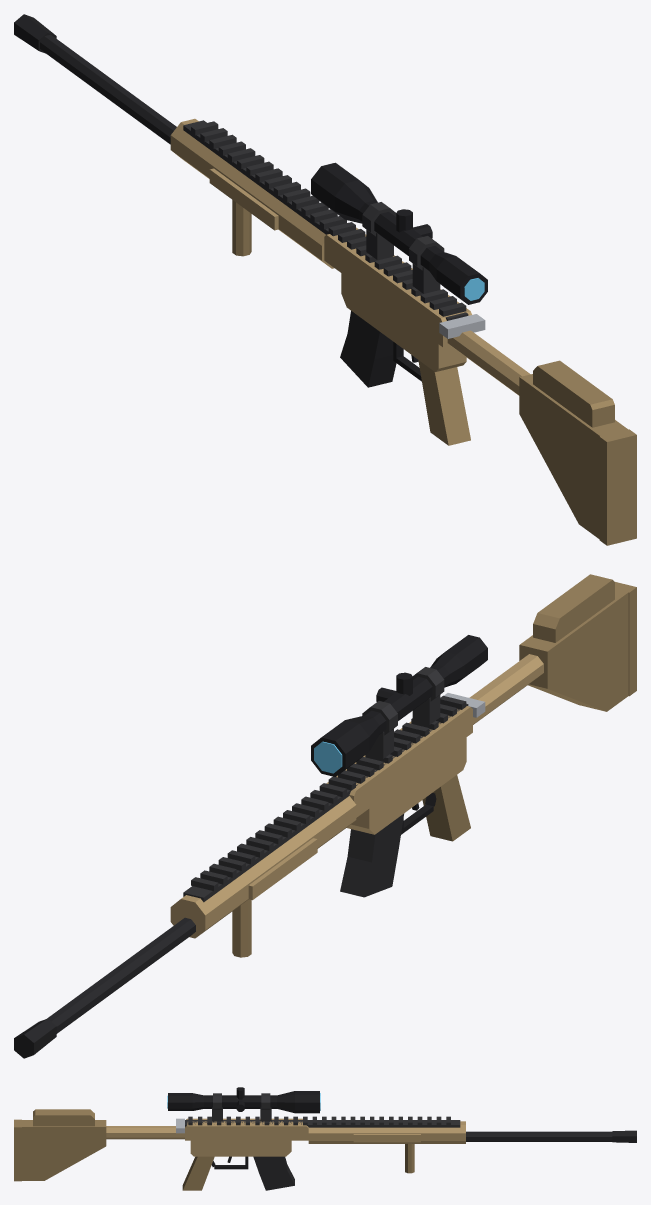
File: Marksman.obj
3 views of the same model, one above another, from view 1: azimuth 30°, elevation 25°; view 2: azimuth 150°, elevation 25°; view 3: azimuth 270°, elevation 25° (orthographic). The views are drawn at different scales.
Parts seen in each view (by area): view 1: Body, Mount, Pad, Stock, Scope, Handguard, Grip, Barrel, Magazine, Muzzle, Bolt; view 2: Mount, Body, Stock, Handguard, Scope, Pad, Magazine, Barrel, Grip, Muzzle, Lens; view 3: Body, Stock, Mount, Handguard, Scope, Barrel, Pad, Magazine, Grip, Muzzle, Trigger.
Boxes of the visible parts, box(x1,y1,x2,y2) form: Body: box(324, 227, 530, 395); Mount: box(183, 120, 468, 320); Pad: box(533, 360, 636, 545); Stock: box(519, 374, 627, 539); Scope: box(311, 162, 487, 304); Handguard: box(170, 118, 334, 268); Grip: box(232, 200, 470, 445); Barrel: box(40, 34, 176, 144); Magazine: box(340, 311, 396, 387); Muzzle: box(14, 14, 56, 53); Bolt: box(439, 314, 485, 338); Mount: box(183, 667, 468, 902); Body: box(326, 654, 543, 834); Stock: box(519, 589, 628, 711); Handguard: box(170, 796, 356, 938); Scope: box(311, 635, 487, 776); Pad: box(533, 574, 636, 696); Magazine: box(340, 813, 404, 897); Barrel: box(47, 917, 195, 1033); Grip: box(232, 775, 470, 957); Muzzle: box(14, 1018, 56, 1058); Lens: box(314, 741, 342, 773); Body: box(106, 1118, 308, 1156); Stock: box(22, 1120, 106, 1180); Mount: box(185, 1093, 460, 1127); Handguard: box(308, 1121, 465, 1143); Scope: box(168, 1087, 319, 1113); Barrel: box(466, 1131, 612, 1141); Pad: box(14, 1109, 94, 1181); Magazine: box(253, 1156, 294, 1190); Grip: box(182, 1143, 414, 1190); Muzzle: box(612, 1130, 636, 1142); Trigger: box(212, 1156, 248, 1169).
Size of the model in its own units: 0.245 by 0.97 by 5.54.
